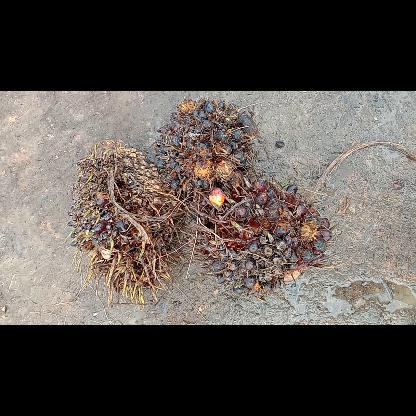TBS abnormal: (68, 140, 188, 310), (180, 180, 333, 296), (154, 99, 257, 205)
